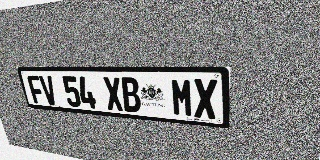4: (76, 76, 97, 109)
5: (62, 76, 82, 107)
B: (120, 77, 142, 113)
F: (26, 75, 46, 104)
M: (170, 78, 194, 117)
V: (39, 76, 58, 105)
X: (193, 79, 217, 119), (102, 77, 124, 111)
